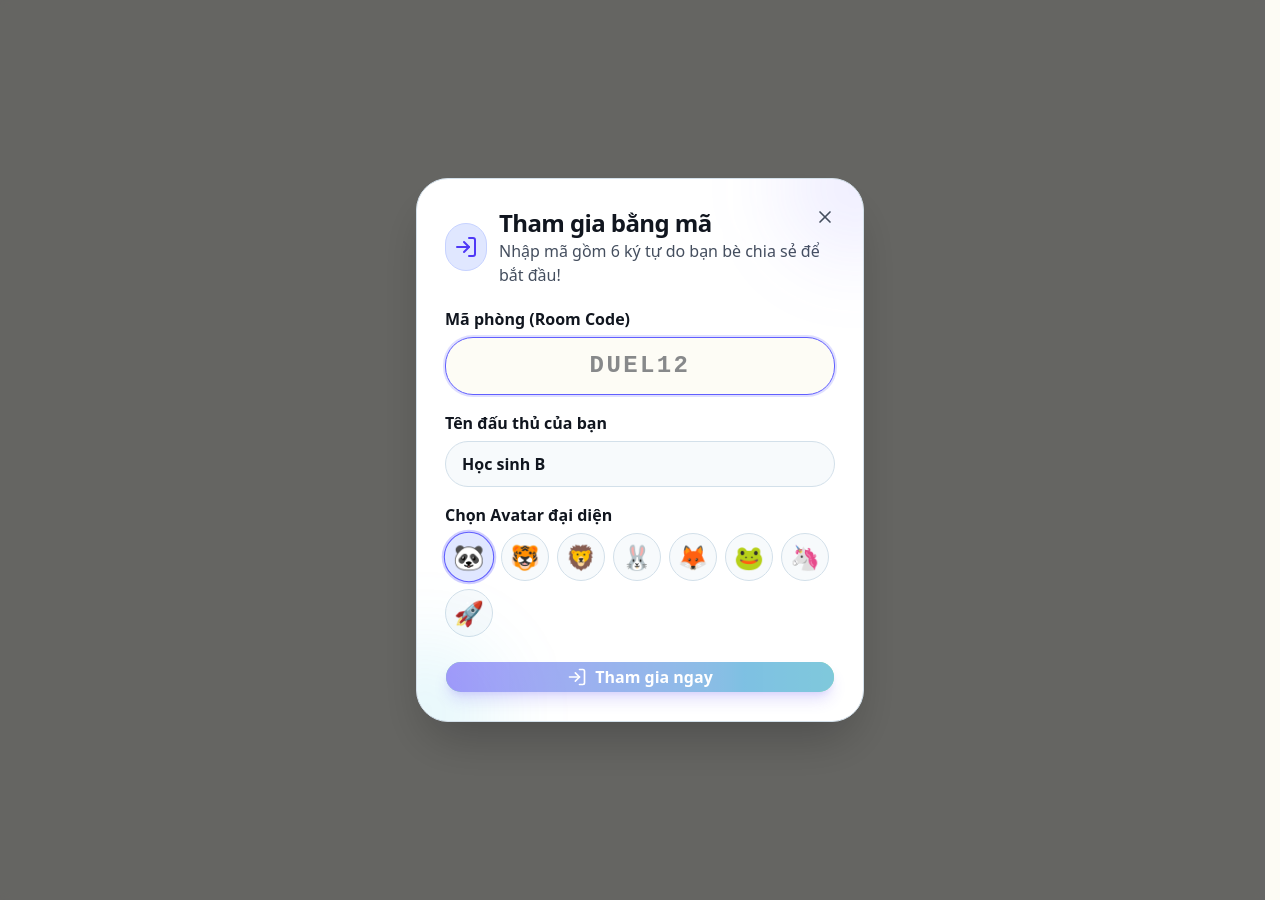
Test case: JoinDuelModal › displays error message when join fails
In the field with test id "room-code-input": (640, 366) [445,337,835,395], type "XYZ456"
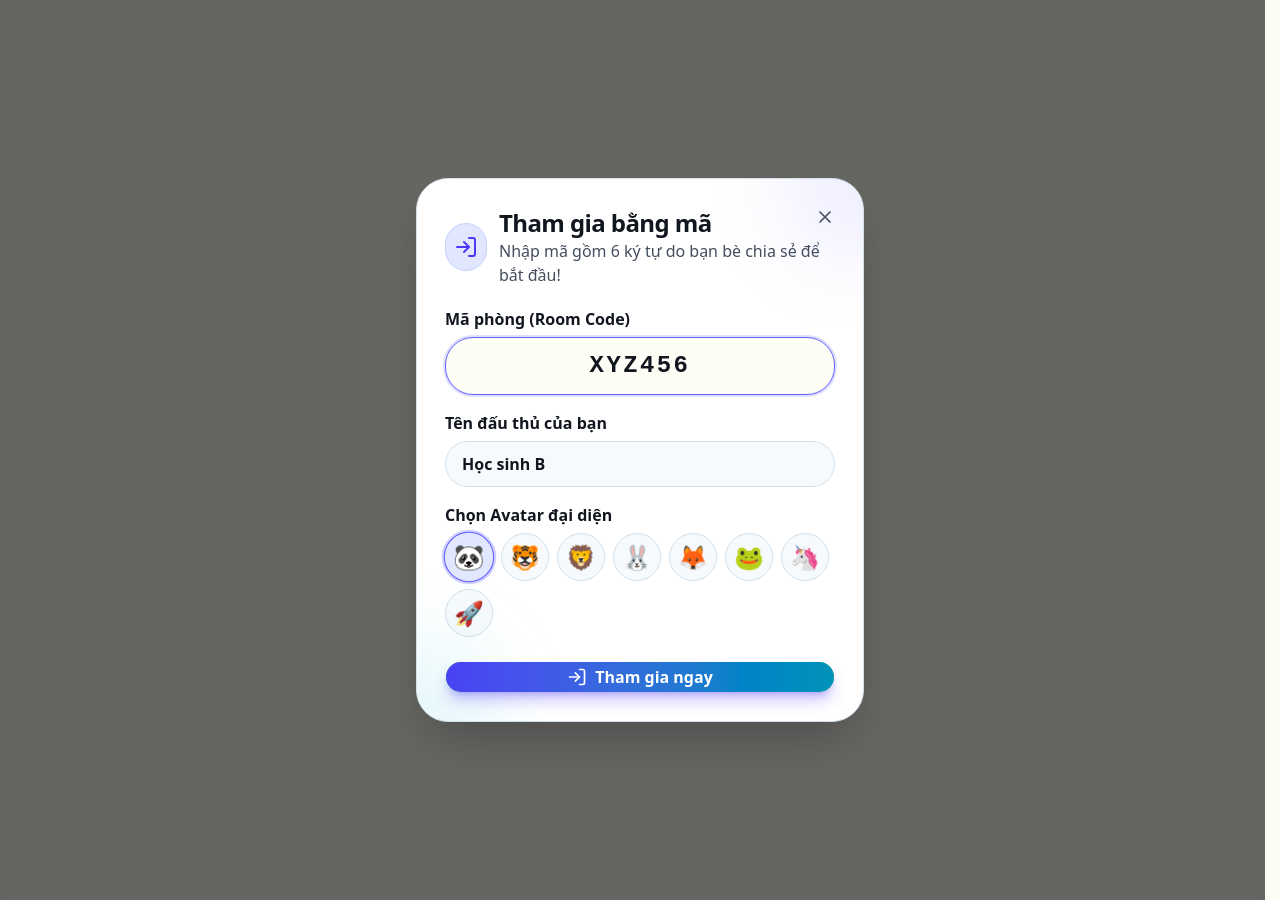
Click the button with test id "join-duel-submit": (640, 677) [445,661,835,693]
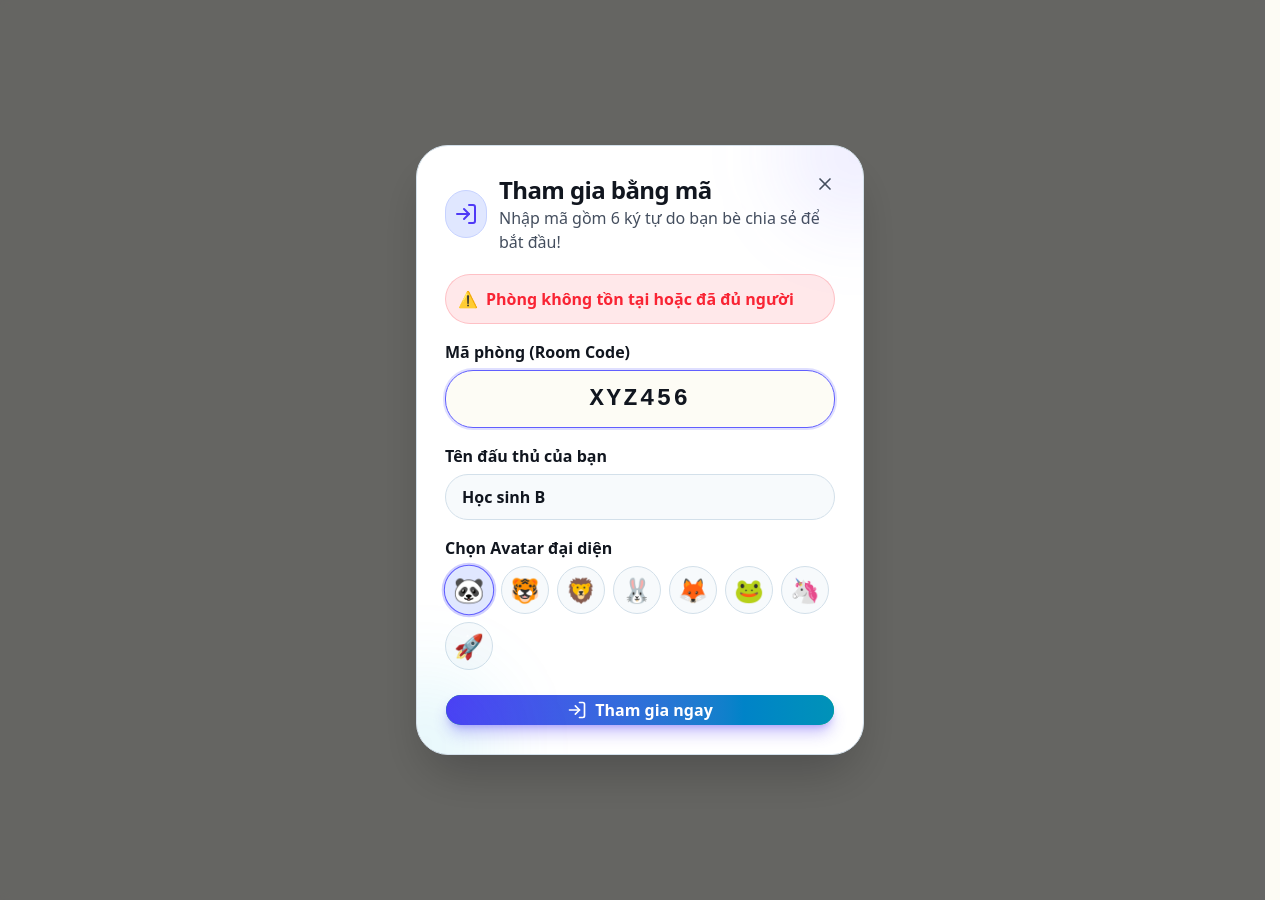
Check: the text "Phòng không tồn tại hoặc đã đủ người" is shown, box [486,287,794,311]
